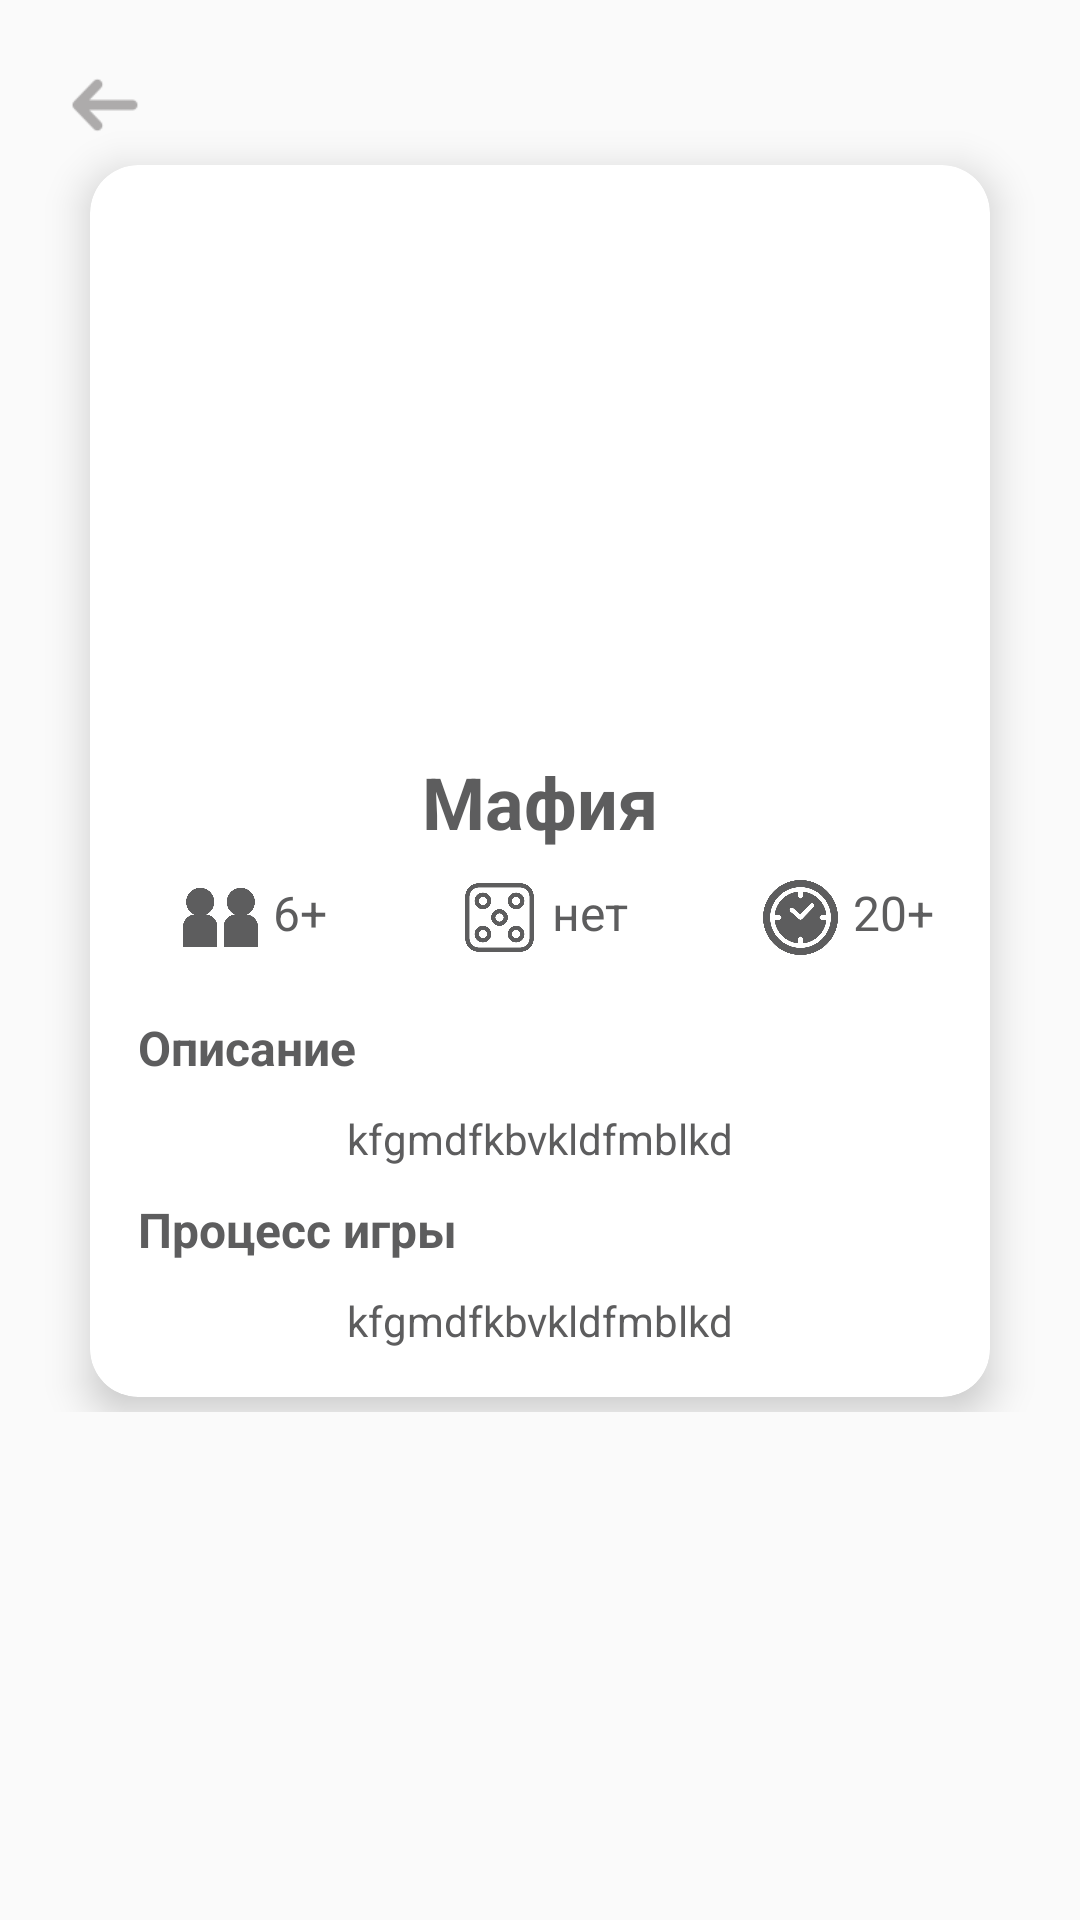

Icon bounding boxes for this 1080 x 1920 phone screenshot, format (x1, y1, x2, y2):
arrow: (72, 79, 138, 131)
people: (183, 888, 258, 947)
time: (763, 880, 838, 955)
